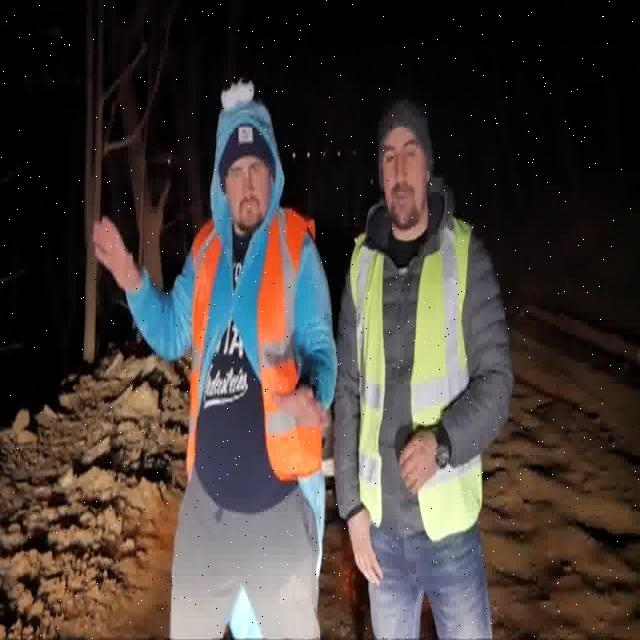Vest: (352, 218, 482, 534), (198, 206, 325, 487)
